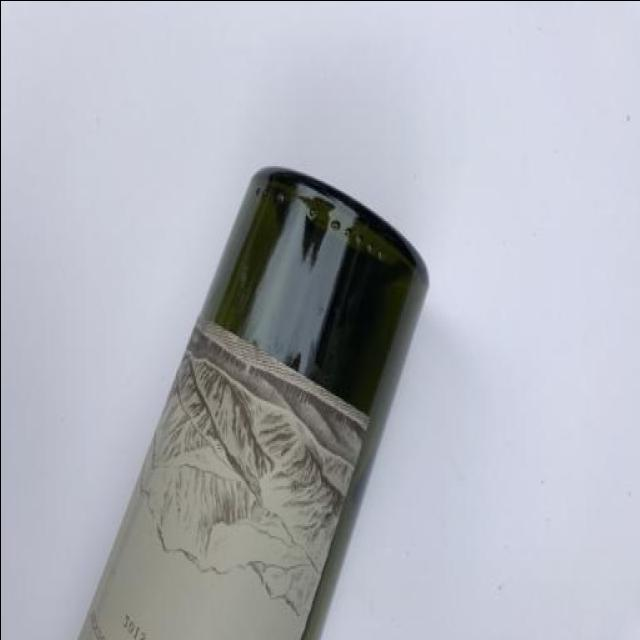glass: (6, 161, 440, 640)
